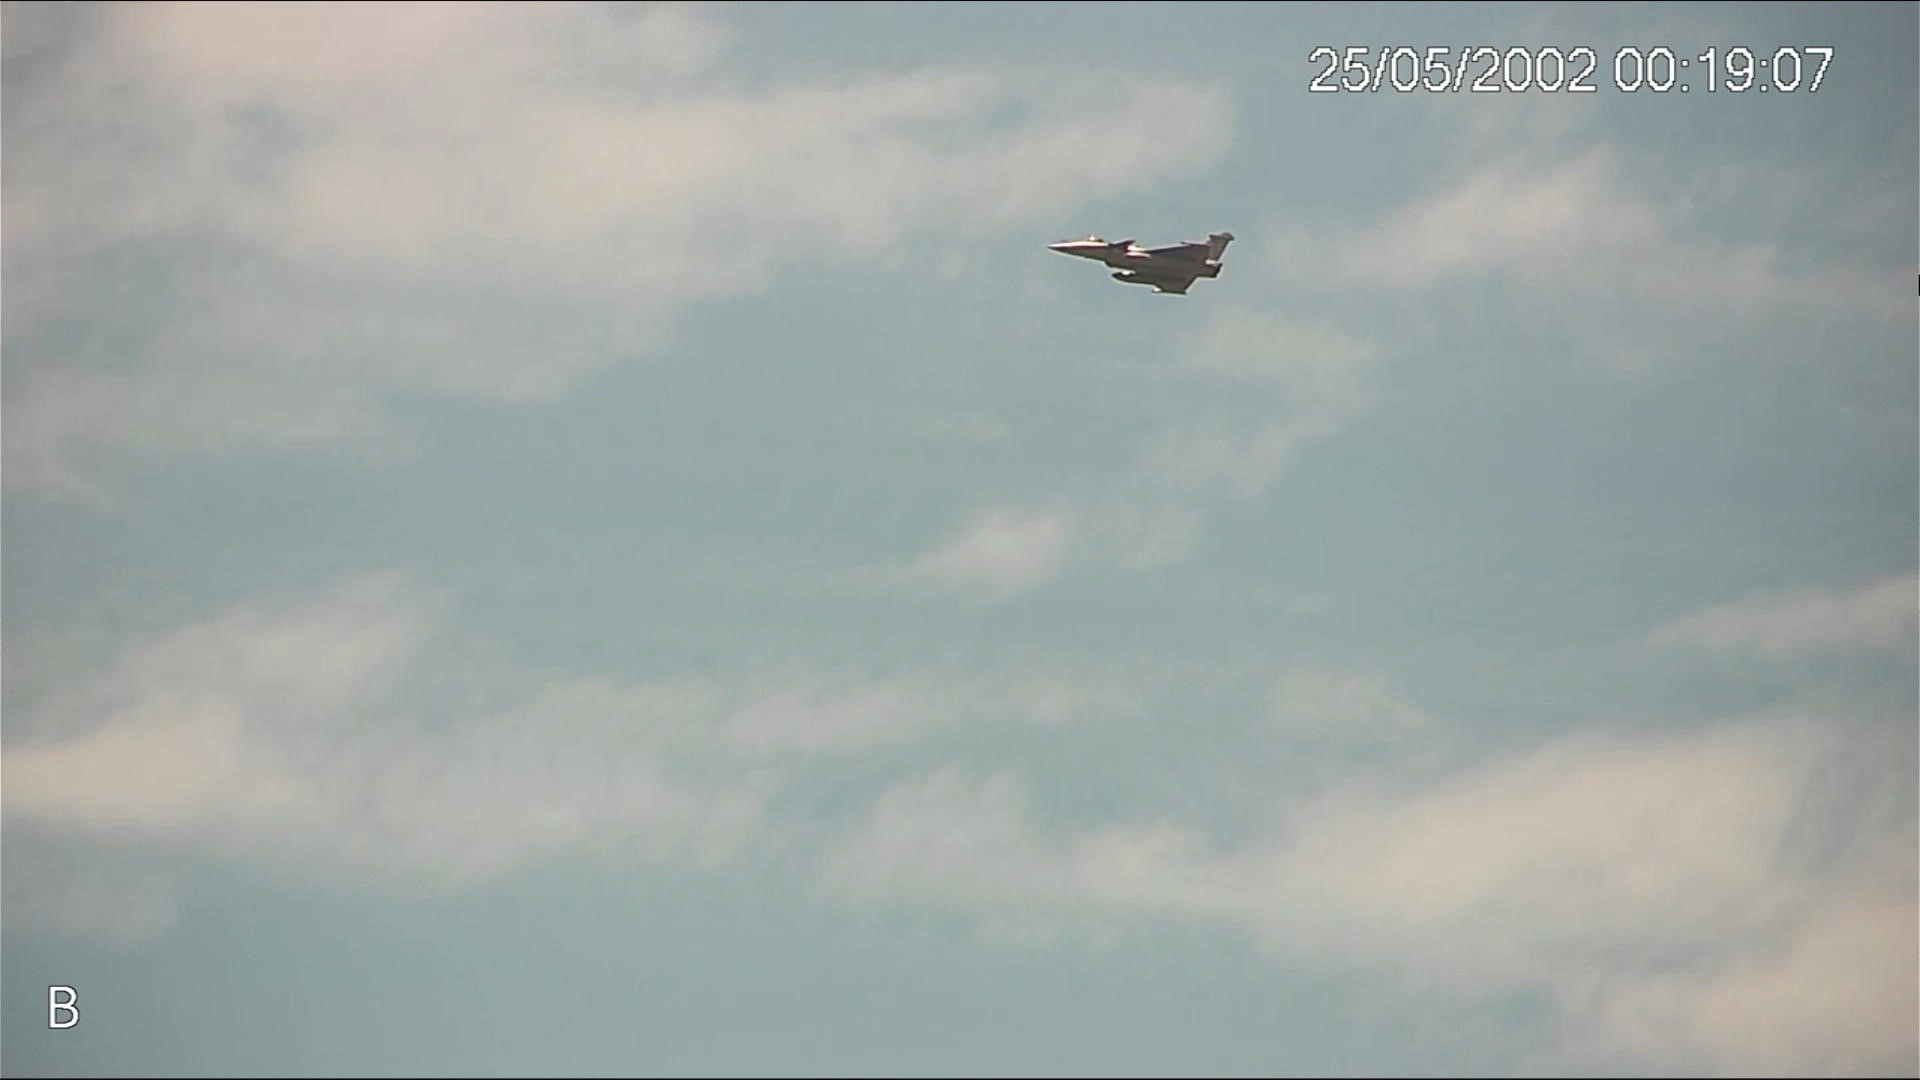SU_30: (1044, 227, 1242, 302)
